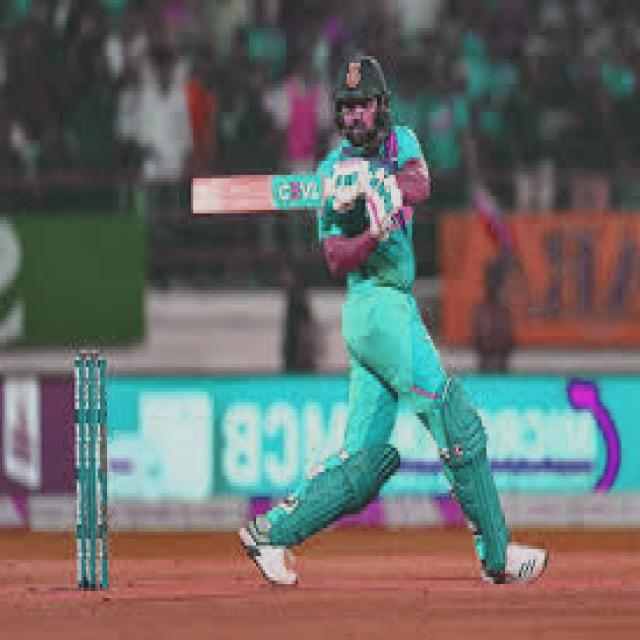toe: (186, 179, 210, 219)
